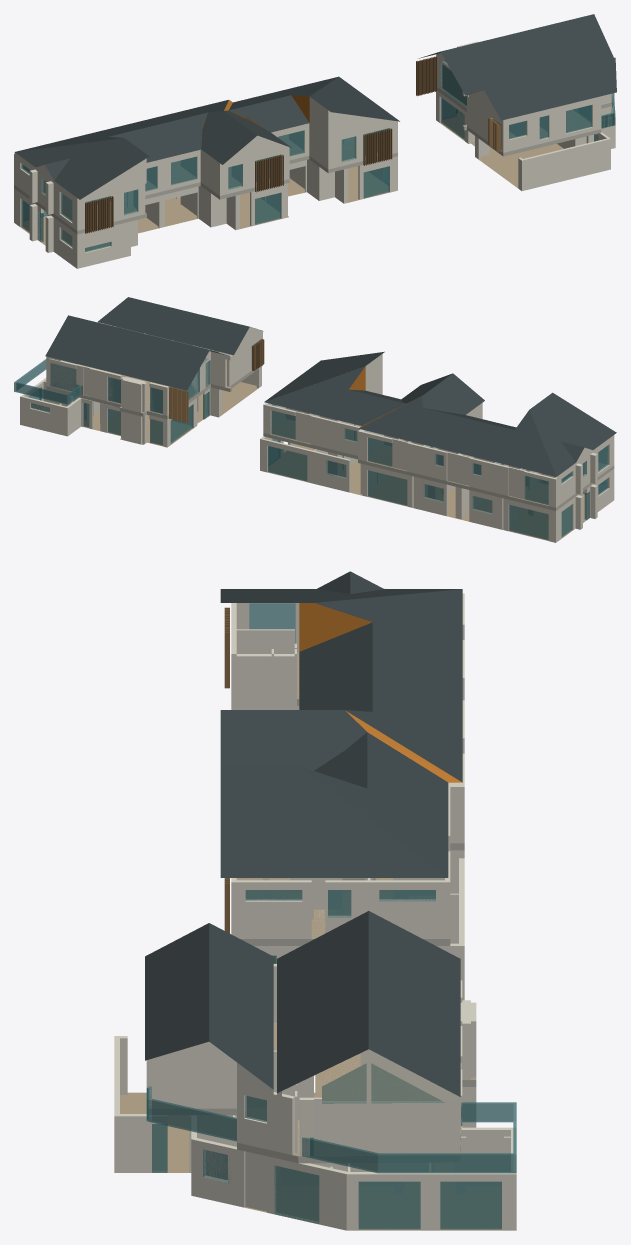
3 renders of one model, top to bottom at view 1: azimuth 30°, elevation 25°; view 2: azimuth 150°, elevation 25°; view 3: azimuth 270°, elevation 25°, orthographic. The views are drawn at different scales.
Parts seen in each view (by area): view 1: B-ROOF-SOUTH, B-ROOF-LOW-SOUTH, A-ROOF-WEST-0, A-GF-FLOOR, B-GF-WALL-9ab8196ef5b2, A-ROOF-LOW-LEFT, A-ROOF-GABLE-LEFT, A-ROOF-EAST, A-ROOF-LOW-RIGHT, A-GF-WALL-842a08a7f890, A-GF-WALL-ba65482c35cf, A-ROOF-NORTH-12 (+41 smaller); view 2: B-ROOF-NORTH, A-ROOF-NORTH-12, B-ROOF-LOW-NORTH, A-GF-FLOOR, A-ROOF-NORTH-3, A-ROOF-WEST-0, B-GF-FLOOR, B-FF-WALL-a2f8efc66da7, A-FF-WALL-ce59e42405a8, A-ROOF-GABLE-LEFT, A-ROOF-EAST, B-GF-WALL-4e440cafcb37 (+36 smaller); view 3: A-ROOF-EAST, A-ROOF-NORTH-12, B-ROOF-NORTH, B-ROOF-SOUTH, B-GF-FLOOR, B-FF-WALL-a2f8efc66da7, A-ROOF-NORTH-3, B-ROOF-LOW-NORTH, A-ROOF-GABLE-RIGHT, B-ROOF-LOW-SOUTH, B-FF-WALL-afc85ee4195d, B-FF-BALUSTRADE-a8bccbeb54d4 (+33 smaller).
Boxes of the visible parts, x1,y1,x2,y2 form: B-ROOF-SOUTH: (440, 14, 613, 95); B-ROOF-LOW-SOUTH: (484, 57, 616, 120); A-ROOF-WEST-0: (15, 138, 149, 199); A-GF-FLOOR: (20, 166, 389, 251); B-GF-WALL-9ab8196ef5b2: (518, 132, 610, 190); A-ROOF-LOW-LEFT: (109, 112, 207, 162); A-ROOF-GABLE-LEFT: (201, 111, 257, 164); A-ROOF-EAST: (310, 77, 399, 121); A-ROOF-LOW-RIGHT: (229, 95, 309, 132); A-GF-WALL-842a08a7f890: (289, 159, 348, 203); A-GF-WALL-ba65482c35cf: (180, 186, 239, 230); A-ROOF-NORTH-12: (15, 100, 228, 151); B-ROOF-NORTH: (45, 315, 209, 390); A-ROOF-NORTH-12: (359, 396, 556, 476); B-ROOF-LOW-NORTH: (98, 297, 249, 355); A-GF-FLOOR: (267, 445, 589, 540); A-ROOF-NORTH-3: (264, 366, 405, 425); A-ROOF-WEST-0: (529, 392, 616, 476); B-GF-FLOOR: (83, 382, 258, 446); B-FF-WALL-a2f8efc66da7: (46, 357, 120, 402); A-FF-WALL-ce59e42405a8: (295, 411, 355, 452); A-ROOF-GABLE-LEFT: (422, 373, 484, 414); A-ROOF-EAST: (264, 351, 384, 401); B-GF-WALL-4e440cafcb37: (20, 394, 83, 436); A-ROOF-EAST: (220, 766, 447, 877); A-ROOF-NORTH-12: (315, 589, 462, 782); B-ROOF-NORTH: (368, 911, 460, 1096); B-ROOF-SOUTH: (277, 911, 368, 1092); B-GF-FLOOR: (120, 1092, 501, 1230); B-FF-WALL-a2f8efc66da7: (299, 1039, 462, 1156); A-ROOF-NORTH-3: (300, 732, 448, 877); B-ROOF-LOW-NORTH: (209, 923, 273, 1089); A-ROOF-GABLE-RIGHT: (220, 710, 366, 770); B-ROOF-LOW-SOUTH: (145, 923, 209, 1060); B-FF-WALL-afc85ee4195d: (146, 1050, 313, 1143); B-FF-BALUSTRADE-a8bccbeb54d4: (302, 1102, 516, 1173).
Bounding box in the file's own units: 47.89 × 7.72 × 15.61.
